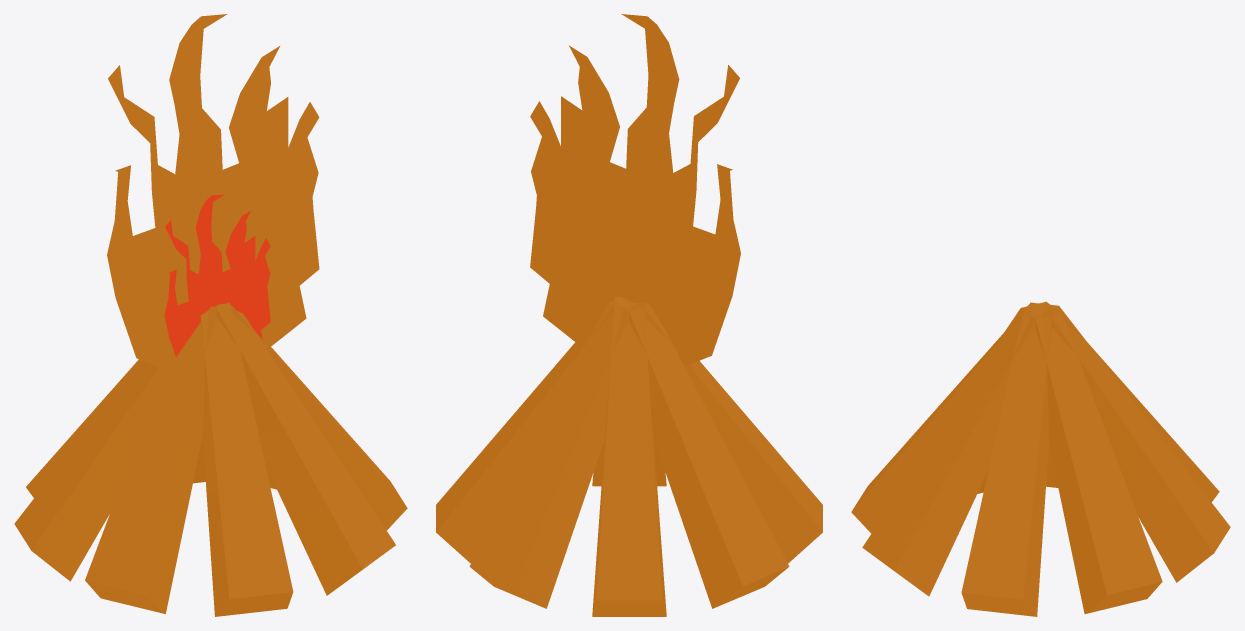
File: 10 Fire.FBX
The picture shows the model from 3 angles, left to right: view 1: azimuth 30°, elevation 25°; view 2: azimuth 150°, elevation 25°; view 3: azimuth 270°, elevation 25°; orthographic projection. The views are drawn at different scales.
Parts seen in each view (by area): view 1: Line030; view 2: Line030; view 3: Line030.
Part boxes in pixels (x1=…): Line030: x1=14, y1=14, x2=407, y2=616; Line030: x1=436, y1=14, x2=822, y2=616; Line030: x1=851, y1=301, x2=1230, y2=616.
Size of the model in its own units: 262 by 396 by 262.
